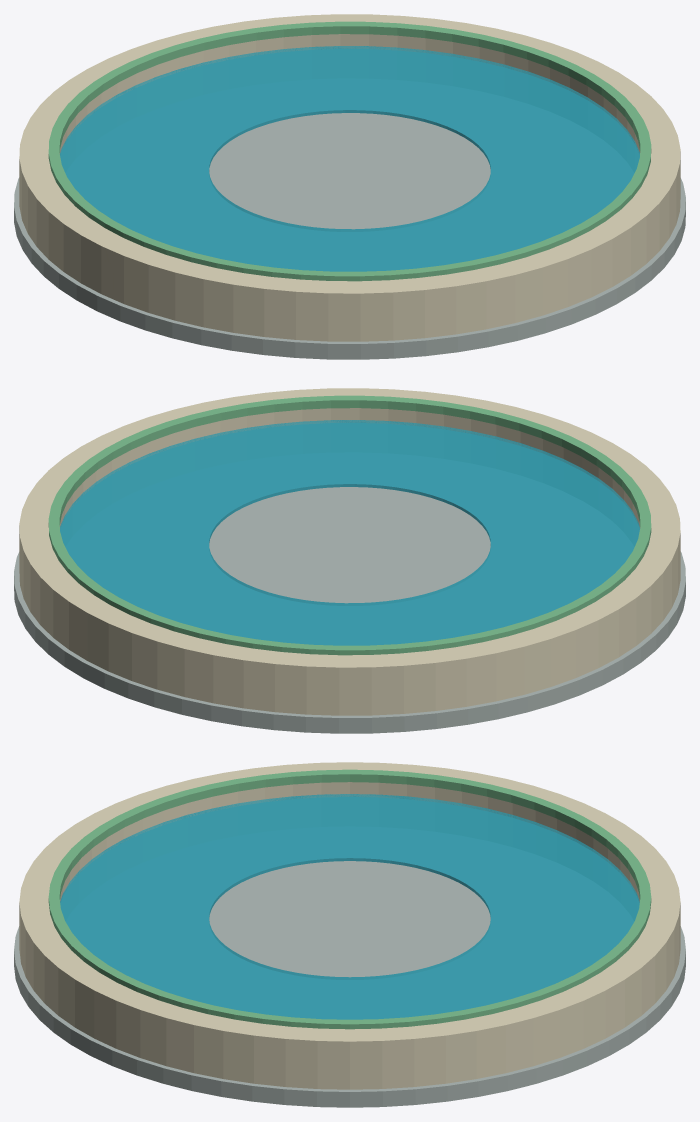
Rendered from PLAZA-006.glb.
3 renders of one model, top to bottom at view 1: azimuth 30°, elevation 25°; view 2: azimuth 150°, elevation 25°; view 3: azimuth 270°, elevation 25°, orthographic.
Visible parts, largest first — view 1: PLAZA-006; view 2: PLAZA-006; view 3: PLAZA-006.
Part boxes in pixels (left/top/right/bottom): PLAZA-006: left=14, top=14, right=685, bottom=359; PLAZA-006: left=14, top=388, right=685, bottom=733; PLAZA-006: left=14, top=762, right=685, bottom=1107.
Size of the model in its own units: 6.2 by 0.7 by 6.2.
